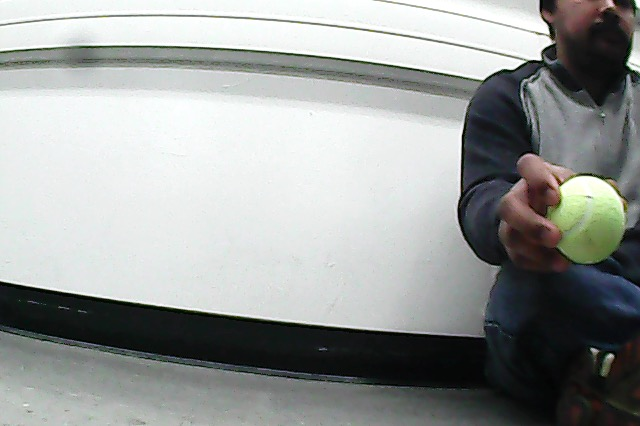ball: (547, 171, 628, 269)
